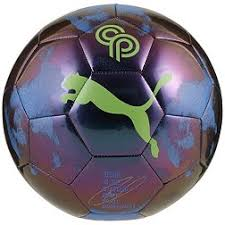football ball: (1, 3, 223, 225)
